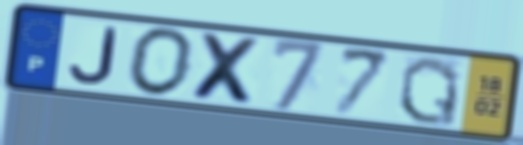7: (269, 36, 329, 115), (334, 44, 394, 120)
J: (67, 24, 121, 87)
O: (126, 24, 198, 99)
Q: (396, 54, 463, 129)
X: (188, 30, 266, 109)
